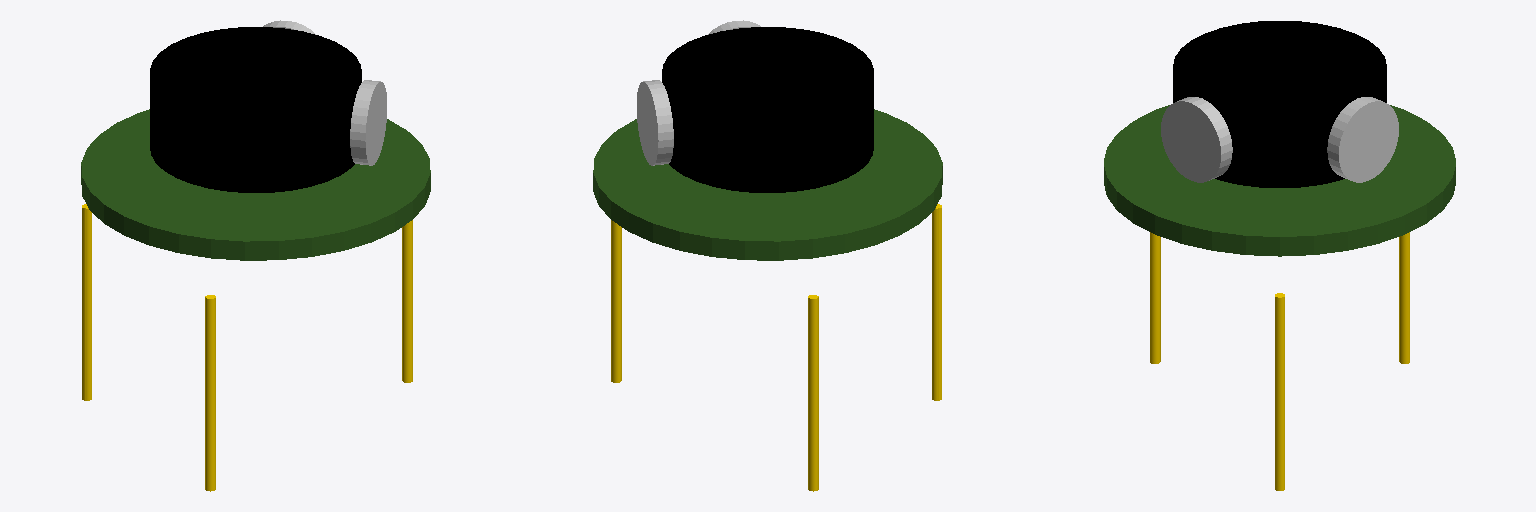
robot.urdf — kilobot:
<?xml version="1.0"?>
<!-- created by Brian: diameter=33mm, height=34mm, the dimensions of the different parts and the mass values are
random -->
<!-- solid cylinder: i_xx = i_yy = i_zz = 1/12 * m * (3*r^2 + h^2) -->

<robot name="kilobot">

    <link name="base_link">
        <inertial>
          <origin xyz="0. 0. 0.02" />
          <mass value="0.08"/>
          <inertia ixx="3.220667e-05"  ixy="0.0"  ixz="0.0" iyy="3.220667e-05" iyz="0.0" izz="3.220667e-05" />
        </inertial>
        <visual>
            <geometry>
                <cylinder length="0.002" radius="0.0165"/>
            </geometry>
            <origin xyz="0.0 0.0 0.015"/>
            <material name="green_pcb">
                <color rgba="0.23 0.4 0.16 1.0"/>
            </material>
        </visual>
        <collision>
          <geometry>
            <cylinder length="0.002" radius="0.0165"/>
          </geometry>
          <origin xyz="0.0 0.0 0.015"/>
        </collision>
    </link>

    <link name="front_leg">
        <inertial>
          <mass value="0.001"/>
          <inertia ixx="3.220667e-05"  ixy="0.0"  ixz="0.0" iyy="3.220667e-05" iyz="0.0" izz="3.220667e-05" />
        </inertial>
        <visual>
            <geometry>
                <cylinder length="0.02" radius="0.0005"/>
            </geometry>
            <material name="gold">
                <color rgba="1.0 0.84 0.0 1.0"/>
            </material>
        </visual>
        <collision>
          <geometry>
            <cylinder length="0.02" radius="0.0005"/>
          </geometry>
        </collision>
    </link>

    <joint name="base_to_front_leg" type="fixed">
        <parent link="base_link"/>
        <child link="front_leg"/>
        <origin xyz="0.0165 0.0 0.0"/>
    </joint>

    <link name="left_leg">
        <inertial>
          <mass value="0.001"/>
          <inertia ixx="3.220667e-05"  ixy="0.0"  ixz="0.0" iyy="3.220667e-05" iyz="0.0" izz="3.220667e-05" />
        </inertial>
        <visual>
            <geometry>
                <cylinder length="0.02" radius="0.0005"/>
            </geometry>
            <material name="gold">
                <color rgba="1.0 0.84 0.0 1.0"/>
            </material>
        </visual>
        <collision>
          <geometry>
            <cylinder length="0.02" radius="0.0005"/>
          </geometry>
        </collision>
    </link>

    <joint name="base_to_left_leg" type="fixed">
        <parent link="base_link"/>
        <child link="left_leg"/>
        <origin xyz="-0.01166726 0.0116672 0.0"/>
    </joint>

    <link name="right_leg">
        <inertial>
          <mass value="0.001"/>
          <inertia ixx="3.220667e-05"  ixy="0.0"  ixz="0.0" iyy="3.220667e-05" iyz="0.0" izz="3.220667e-05" />
        </inertial>
        <visual>
            <geometry>
                <cylinder length="0.02" radius="0.0005"/>
            </geometry>
            <material name="gold">
                <color rgba="1.0 0.84 0.0 1.0"/>
            </material>
        </visual>
        <collision>
          <geometry>
            <cylinder length="0.02" radius="0.0005"/>
          </geometry>
        </collision>
    </link>

    <joint name="base_to_right_leg" type="fixed">
        <parent link="base_link"/>
        <child link="right_leg"/>
        <origin xyz="-0.01166726 -0.0116672 0.0"/>
    </joint>

    <link name="right_vibration_motor">
        <inertial>
          <origin rpy="0 1.57075 0"/>
          <mass value="0.02"/>
          <inertia ixx="2.006667e-06"  ixy="0.0"  ixz="0.0" iyy="2.006667e-06" iyz="0.0" izz="2.006667e-06" />
        </inertial>
        <visual>
            <geometry>
                <cylinder length="0.0015" radius="0.004"/>
            </geometry>
            <origin rpy="0 1.57075 0"/>
            <material name="light_grey">
                <color rgba="0.8 0.8 0.8 1"/>
            </material>
        </visual>
        <collision>
          <geometry>
            <cylinder length="0.0015" radius="0.004"/>
          </geometry>
          <origin rpy="0 1.57075 0"/>
        </collision>
    </link>

    <joint name="base_to_right_vibration_motor" type="continuous">
        <parent link="base_link"/>
        <child link="right_vibration_motor"/>
        <origin rpy="0 0 -0.7853981633974483" xyz="0.0077782 -0.0077782 0.022"/>
        <axis xyz="1 1 0"/>
    </joint>

    <link name="left_vibration_motor">
        <inertial>
          <origin rpy="0 1.57075 0"/>
          <mass value="0.02"/>
          <inertia ixx="2.006667e-06"  ixy="0.0"  ixz="0.0" iyy="2.006667e-06" iyz="0.0" izz="2.006667e-06" />
        </inertial>
        <visual>
            <geometry>
                <cylinder length="0.0015" radius="0.004"/>
            </geometry>
            <origin rpy="0 1.57075 0"/>
            <material name="light_grey">
                <color rgba="0.8 0.8 0.8 1"/>
            </material>
        </visual>
        <collision>
          <geometry>
            <cylinder length="0.0015" radius="0.004"/>
          </geometry>
          <origin rpy="0 1.57075 0"/>
        </collision>
    </link>

    <joint name="base_to_left_vibration_motor" type="continuous">
        <parent link="base_link"/>
        <child link="left_vibration_motor"/>
        <origin rpy="0 0 0.7853981633974483" xyz="0.0077782 0.0077782 0.022"/>
        <axis xyz="1 -1 0"/>
    </joint>

    <link name="body_top">
        <inertial>
          <mass value="0.03"/>
          <inertia ixx="1.02775e-5"  ixy="0.0"  ixz="0.0" iyy="1.02775e-5" iyz="0.0" izz="1.02775e-5" />
        </inertial>
        <visual>
            <geometry>
                <cylinder length="0.008" radius="0.01"/>
            </geometry>
            <material name="black">
                <color rgba="0.0 0.0 0.0 1"/>
            </material>
        </visual>
        <collision>
          <geometry>
            <cylinder length="0.008" radius="0.01"/>
          </geometry>
        </collision>
    </link>

    <joint name="base_to_body_top" type="fixed">
        <parent link="base_link"/>
        <child link="body_top"/>
        <origin xyz="0.0 0.0 0.022"/>
    </joint>

</robot>

--- Render facts (derived) ---
Views: 3 orthographic renders of the robot side by side, from view 1: azimuth 30°, elevation 25°; view 2: azimuth 150°, elevation 25°; view 3: azimuth 270°, elevation 25°.
Model kilobot with 7 links and 6 joints (2 continuous, 4 fixed), rooted at base_link, posed every joint at zero.
Visible links, largest first — view 1: body_top, base_link, right_vibration_motor, right_leg, left_leg, front_leg; view 2: body_top, base_link, left_vibration_motor, left_leg, right_leg, front_leg; view 3: base_link, body_top, right_vibration_motor, left_vibration_motor, front_leg, left_leg, right_leg.
Boxes of the visible links, x1,y1,x2,y2 form: body_top: (150, 27, 361, 192); base_link: (81, 109, 430, 260); right_vibration_motor: (350, 80, 386, 165); right_leg: (205, 295, 215, 491); left_leg: (82, 204, 91, 400); front_leg: (402, 220, 412, 382); body_top: (662, 27, 873, 192); base_link: (593, 109, 942, 260); left_vibration_motor: (637, 80, 673, 165); left_leg: (808, 295, 818, 491); right_leg: (932, 204, 941, 400); front_leg: (611, 220, 621, 382); base_link: (1104, 105, 1455, 256); body_top: (1173, 21, 1386, 187); right_vibration_motor: (1161, 97, 1232, 182); left_vibration_motor: (1327, 97, 1398, 182); front_leg: (1275, 293, 1284, 490); left_leg: (1399, 232, 1409, 363); right_leg: (1150, 232, 1160, 363).
Bounding box of the posed robot: 0.0335 × 0.033 × 0.036 m (x, y, z).
Geometry: primitives only (box / cylinder / sphere), no mesh files.
